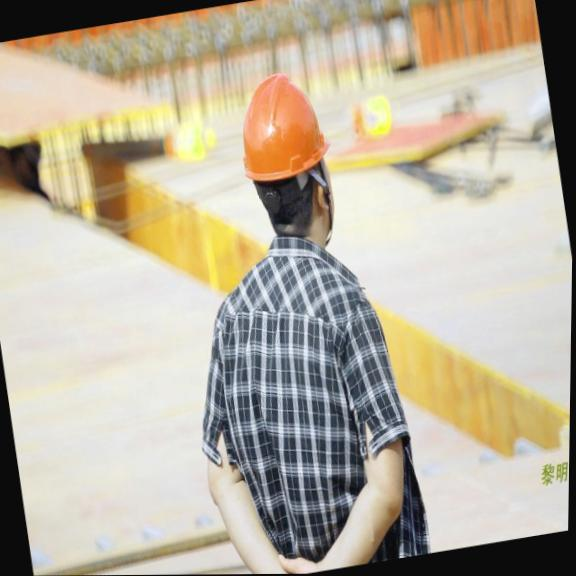no_safety_vest: (175, 208, 431, 575)
